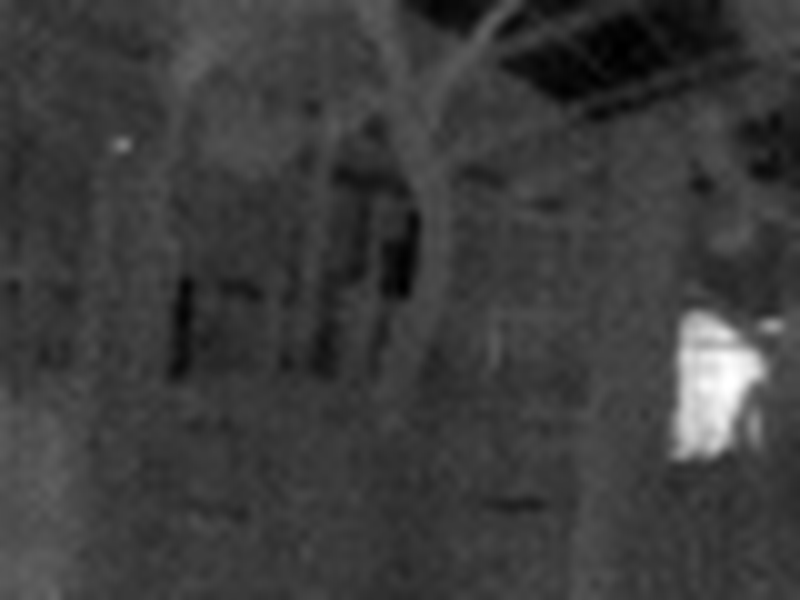elephant: (666, 298, 784, 479)
